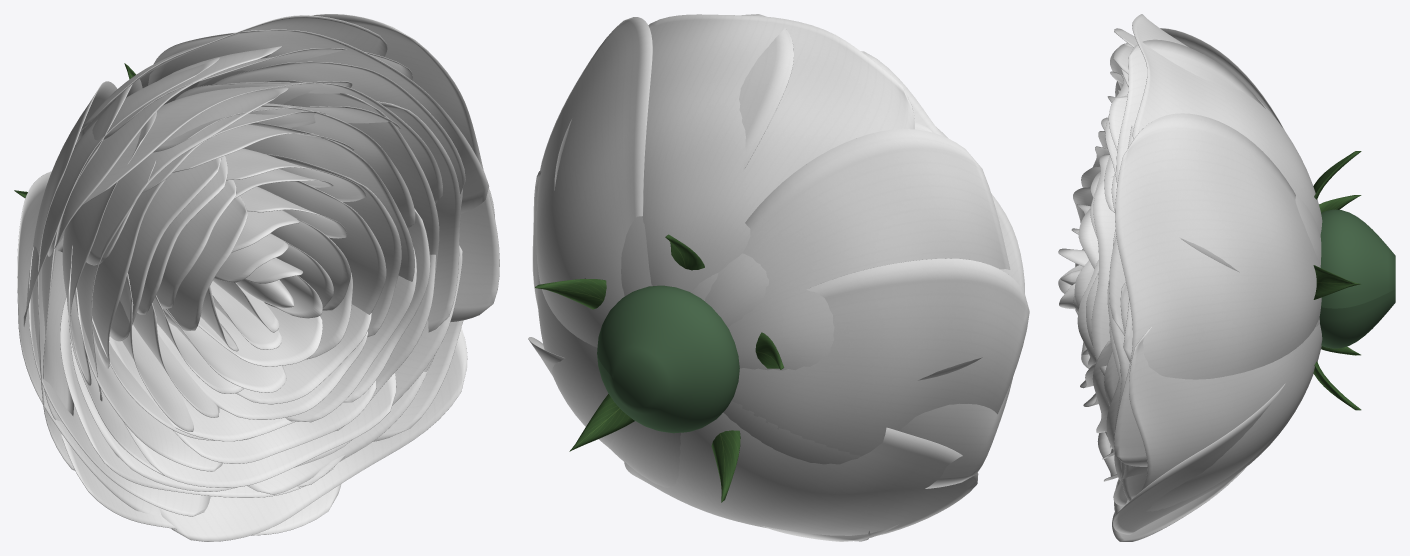
Rendered from rose-4-high.glb.
3 renders of one model, left to right at view 1: azimuth 30°, elevation 25°; view 2: azimuth 150°, elevation 25°; view 3: azimuth 270°, elevation 25°, orthographic. The views are drawn at different scales.
Parts seen in each view (by area): view 1: Rose_4_high_Petals; view 2: Rose_4_high_Petals, Rose_4_high_Receptacle, Rose_4_high_Sepals; view 3: Rose_4_high_Petals, Rose_4_high_Receptacle, Rose_4_high_Sepals.
Boxes of the visible parts, x1,y1,x2,y2 form: Rose_4_high_Petals: (17,14,499,541); Rose_4_high_Petals: (528,14,1029,541); Rose_4_high_Receptacle: (597,285,739,433); Rose_4_high_Sepals: (535,234,783,502); Rose_4_high_Petals: (1058,14,1322,541); Rose_4_high_Receptacle: (1319,209,1395,348); Rose_4_high_Sepals: (1313,151,1361,410).
Bounding box in the file's own units: 0.7854 × 0.7891 × 0.5083.
3 materials, 2 textured.
